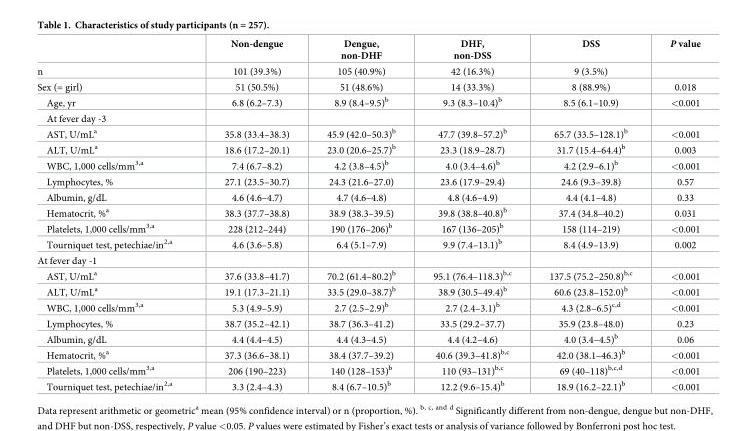table: (36, 36, 699, 391)
table column: (36, 36, 197, 391), (529, 36, 650, 391), (413, 36, 529, 391), (197, 36, 307, 391), (307, 36, 413, 391), (650, 36, 699, 391)
table column header: (36, 36, 699, 63)
table projected row header: (36, 110, 699, 125), (36, 252, 699, 267)
table row: (36, 36, 699, 63), (36, 93, 699, 110), (36, 156, 699, 173), (36, 235, 699, 252), (36, 298, 699, 315), (36, 63, 699, 79), (36, 125, 699, 141), (36, 173, 699, 189), (36, 204, 699, 220), (36, 267, 699, 283), (36, 330, 699, 346), (36, 346, 699, 362), (36, 110, 699, 125), (36, 141, 699, 156), (36, 189, 699, 204), (36, 220, 699, 235), (36, 252, 699, 267), (36, 283, 699, 298), (36, 315, 699, 330), (36, 362, 699, 377), (36, 79, 699, 93), (36, 377, 699, 391)
